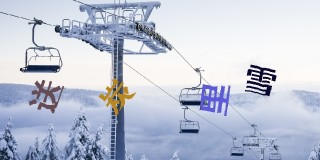炭: (98, 77, 137, 115)
送: (29, 79, 64, 112)
里: (198, 81, 231, 116)
雪: (243, 63, 278, 97)
